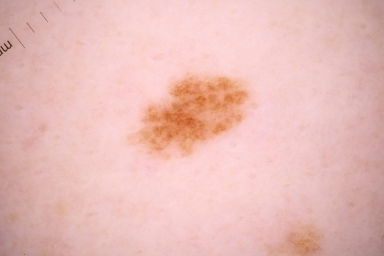melanoma: (137, 76, 250, 153)
